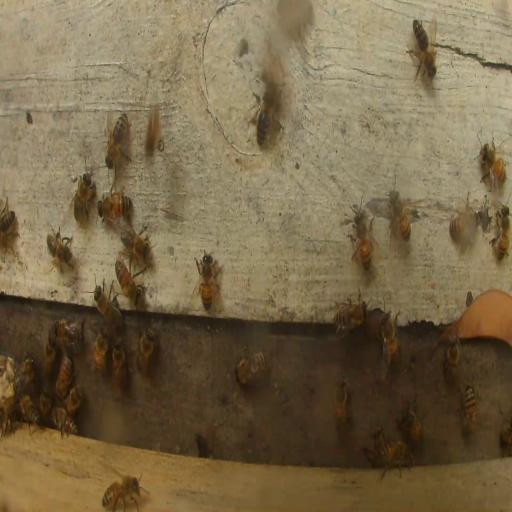nonpollenbee: (408, 19, 438, 78), (388, 186, 417, 242), (104, 112, 131, 170), (103, 474, 143, 512), (91, 279, 123, 326), (332, 294, 366, 338), (376, 438, 412, 478), (71, 167, 95, 221), (351, 209, 372, 270), (379, 310, 401, 368), (480, 140, 506, 188), (46, 227, 74, 270), (395, 403, 424, 443), (236, 348, 268, 384), (334, 376, 352, 438), (198, 248, 216, 310), (255, 92, 276, 145), (96, 192, 133, 221), (114, 260, 140, 301), (493, 204, 511, 261), (136, 325, 156, 375), (119, 229, 150, 260), (449, 212, 475, 246), (110, 336, 127, 386), (54, 320, 83, 349), (56, 353, 73, 401), (14, 354, 35, 392), (461, 383, 476, 435), (42, 326, 57, 377), (91, 329, 108, 374), (0, 195, 15, 245), (365, 429, 385, 463), (445, 337, 460, 381), (432, 328, 458, 353), (54, 410, 77, 438), (18, 394, 38, 426), (65, 382, 82, 416), (38, 388, 52, 424), (0, 403, 12, 436), (196, 434, 213, 456), (500, 417, 510, 450), (258, 444, 270, 462)
pollenbee: (145, 102, 160, 155)
